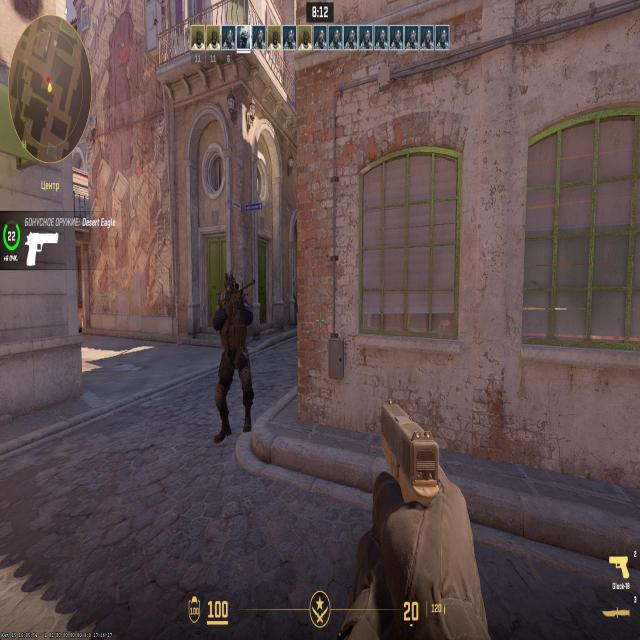CT: (218, 278, 252, 415)
CT_heat: (225, 273, 239, 296)
